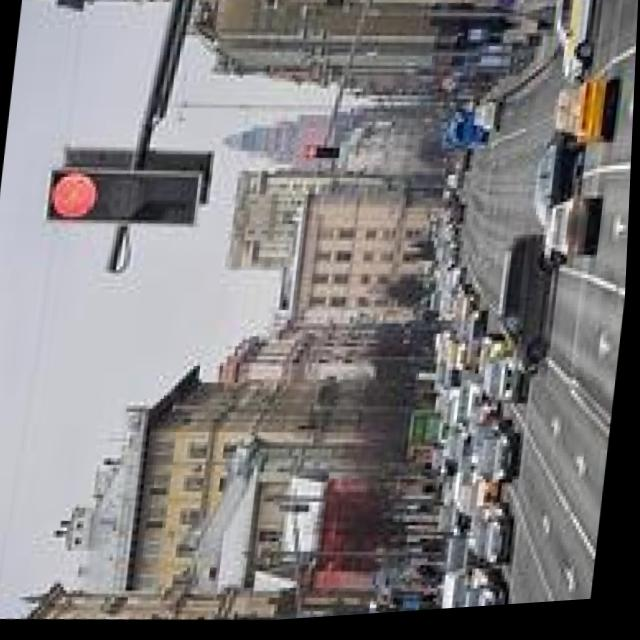red_light: (34, 141, 105, 243)
